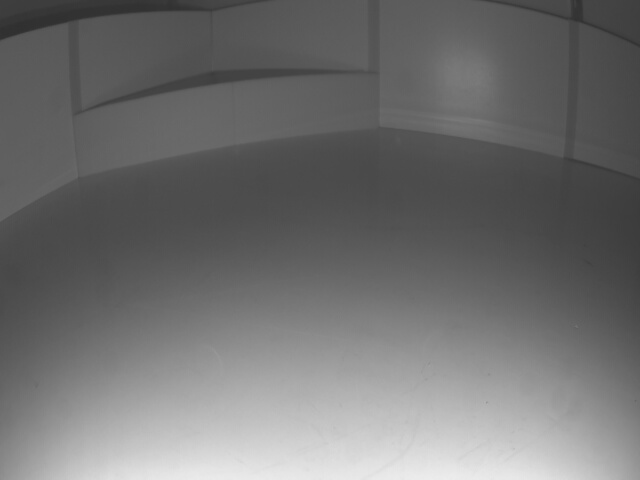Point: (79, 73, 379, 179)
